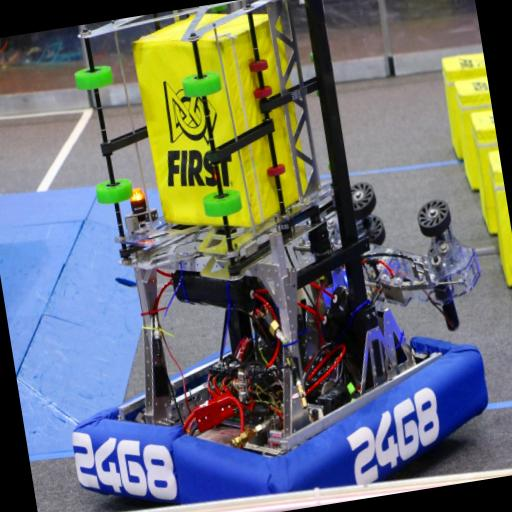robot: (6, 0, 500, 512)
